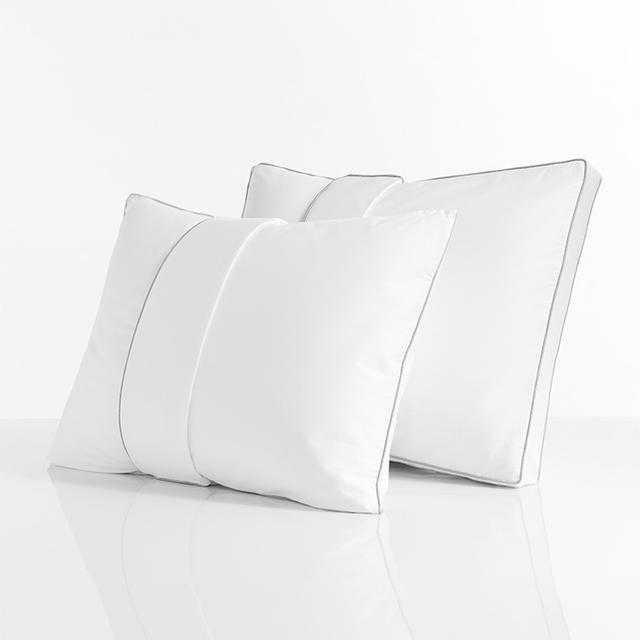pillow: (46, 191, 458, 514), (240, 157, 602, 489)
